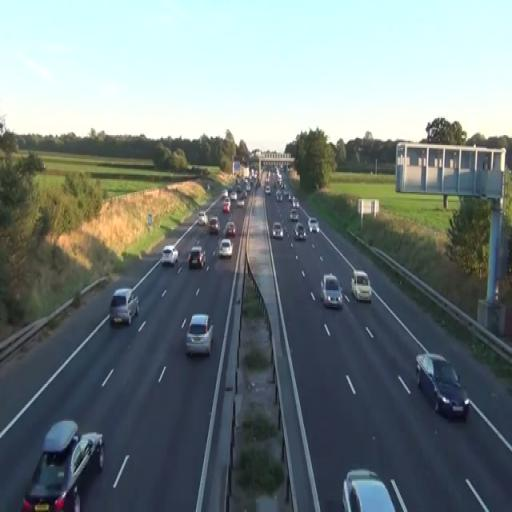Car: (22, 418, 104, 511), (415, 351, 470, 421), (342, 468, 396, 512), (185, 314, 214, 358), (110, 288, 140, 326), (320, 273, 343, 309), (350, 270, 372, 302), (188, 246, 206, 269), (218, 238, 233, 258), (225, 221, 237, 238), (273, 221, 283, 240)
Truck: (22, 419, 104, 511)
